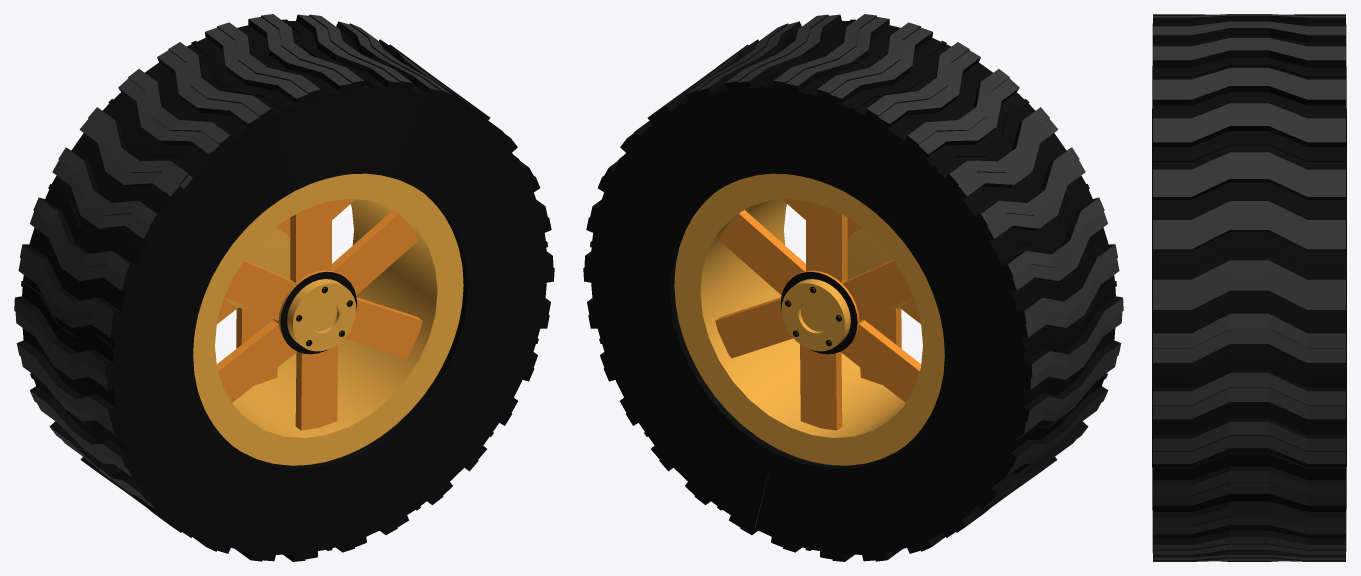
Rendered from tire.fbx.
3 renders of one model, left to right at view 1: azimuth 30°, elevation 25°; view 2: azimuth 150°, elevation 25°; view 3: azimuth 270°, elevation 25°, orthographic. The views are drawn at different scales.
Parts seen in each view (by area): view 1: Plane.001, Circle, Cube, Circle.001; view 2: Plane.001, Circle, Cube, Circle.001; view 3: Plane.001.
Boxes of the visible parts, left/top/right/bottom form: Plane.001: left=14, top=14, right=554, bottom=561; Circle: left=193, top=173, right=463, bottom=465; Cube: left=216, top=199, right=422, bottom=430; Circle.001: left=225, top=228, right=357, bottom=354; Plane.001: left=583, top=14, right=1123, bottom=561; Circle: left=674, top=173, right=944, bottom=465; Cube: left=715, top=199, right=921, bottom=430; Circle.001: left=780, top=228, right=912, bottom=354; Plane.001: left=1152, top=14, right=1346, bottom=561.
Size of the model in its own units: 105 by 105 by 37.24.
